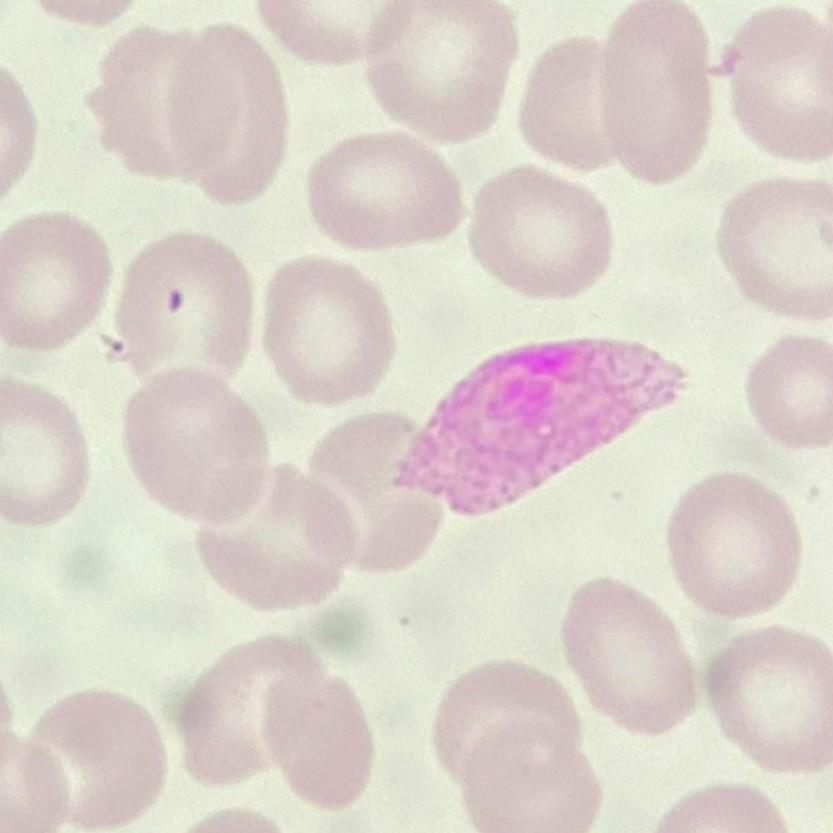Infected: (397, 337, 687, 518)
Uninfected: (85, 24, 241, 181), (193, 464, 358, 610), (110, 234, 254, 401), (363, 0, 519, 148), (178, 635, 330, 783), (308, 410, 446, 571), (127, 375, 270, 529), (168, 20, 287, 205), (562, 579, 702, 733), (603, 0, 717, 188), (262, 252, 397, 397), (433, 657, 581, 787), (23, 690, 167, 822), (307, 129, 465, 248), (705, 629, 833, 774), (670, 474, 801, 615), (472, 169, 613, 298), (527, 34, 653, 170), (720, 175, 833, 324), (728, 7, 833, 165), (463, 714, 601, 833), (260, 669, 374, 811), (0, 209, 114, 346), (0, 380, 90, 527), (743, 332, 833, 447)
